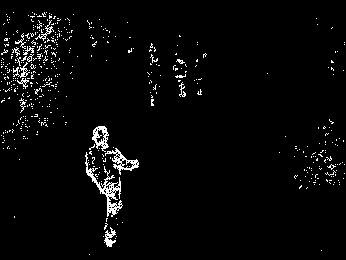person: (85, 125, 140, 248), (172, 54, 190, 100)
